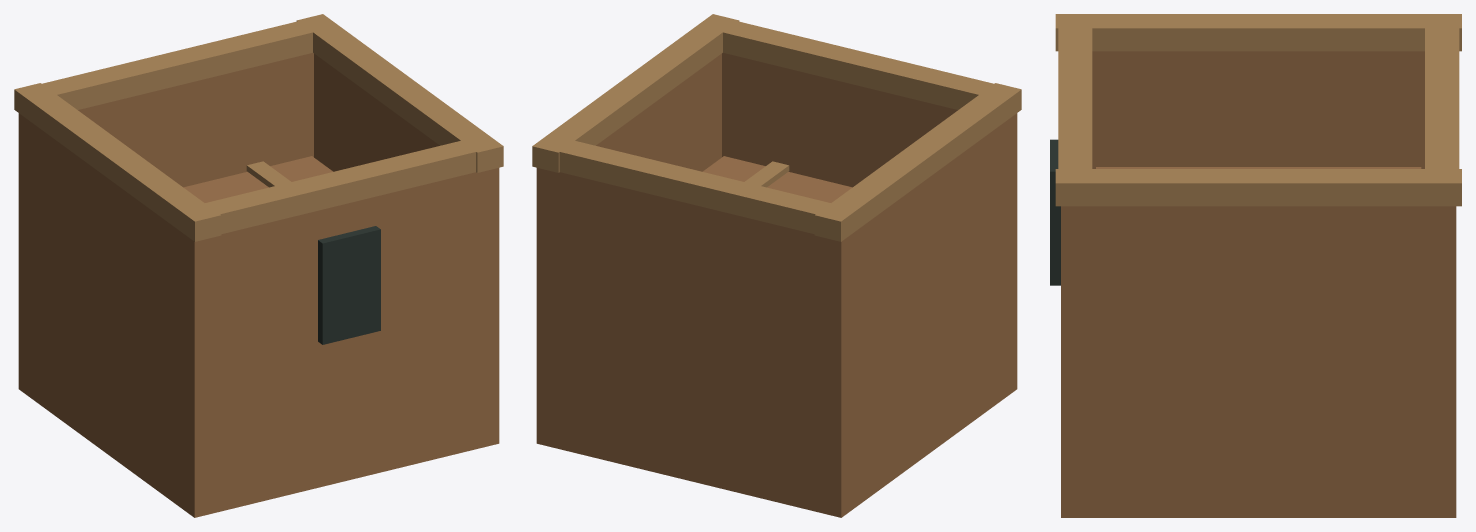
Rendered from normal-medium.glb.
3 views of the same model, side by side, from view 1: azimuth 30°, elevation 25°; view 2: azimuth 150°, elevation 25°; view 3: azimuth 270°, elevation 25° (orthographic). The views are drawn at different scales.
Parts seen in each view (by area): view 1: Mesh_CargoContainer_Cargo_Paint.001, Mesh_CargoFill_Cargo_Paint.001; view 2: Mesh_CargoContainer_Cargo_Paint.001, Mesh_CargoFill_Cargo_Paint.001; view 3: Mesh_CargoContainer_Cargo_Paint.001, Mesh_CargoFill_Cargo_Paint.001.
Part boxes in pixels (box(x1,y1,x2,y2)): Mesh_CargoContainer_Cargo_Paint.001: box(14, 14, 503, 517); Mesh_CargoFill_Cargo_Paint.001: box(183, 156, 333, 202); Mesh_CargoContainer_Cargo_Paint.001: box(532, 14, 1021, 517); Mesh_CargoFill_Cargo_Paint.001: box(702, 156, 852, 202); Mesh_CargoContainer_Cargo_Paint.001: box(1050, 14, 1461, 517); Mesh_CargoFill_Cargo_Paint.001: box(1096, 167, 1421, 168).
Bounding box in the file's own units: 0.223 × 0.206 × 0.229.
